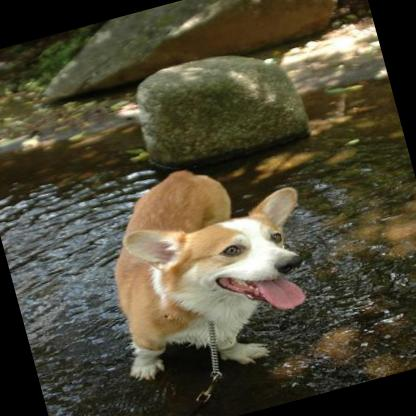Pembroke: (77, 136, 341, 405)
